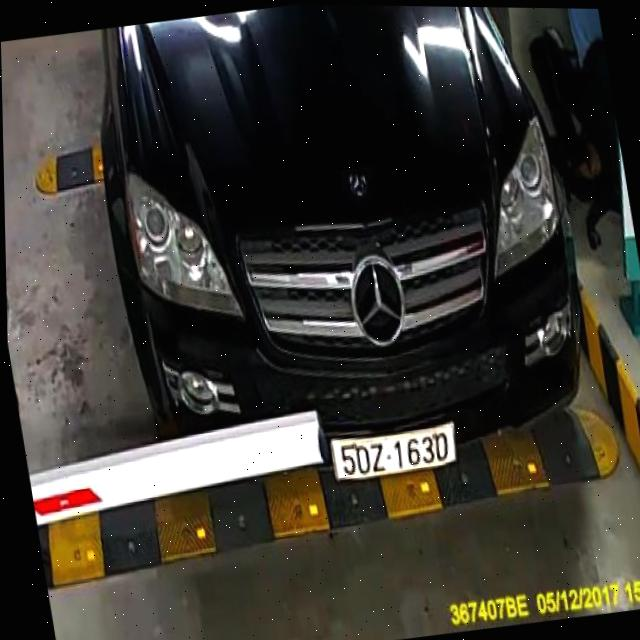car: (81, 1, 608, 524)
plate: (326, 412, 465, 484)
